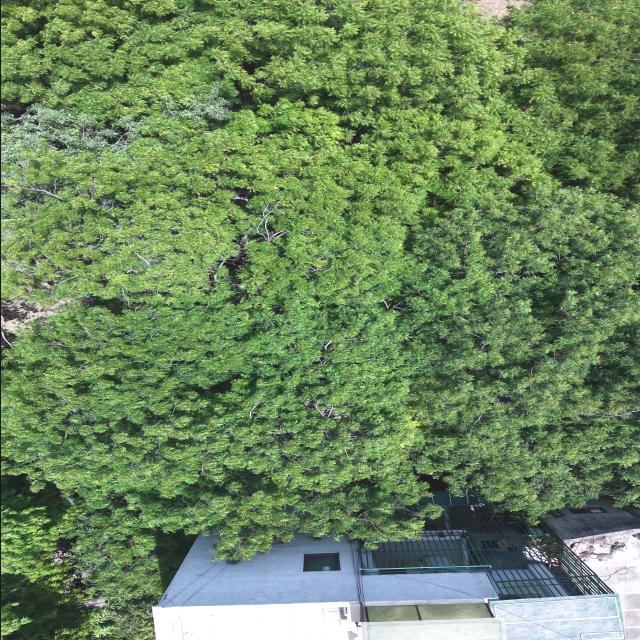ROOFTOP_BUILDING: (154, 493, 624, 639)
VEGETATION_TREE: (1, 0, 639, 639), (1, 476, 191, 639)
